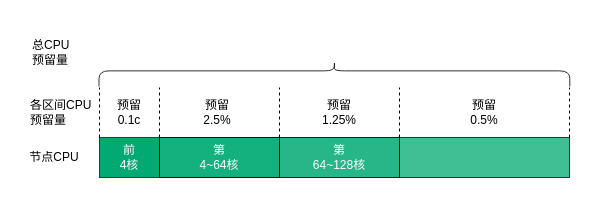
This 606x214 diagram has some shape labels left out. The centre of each missing label's shape, as x and y in pixels:
"求和： ∑ （各 区间CPU预留量）" goes at point (334, 73).
"第 128核以后" goes at point (484, 157).
